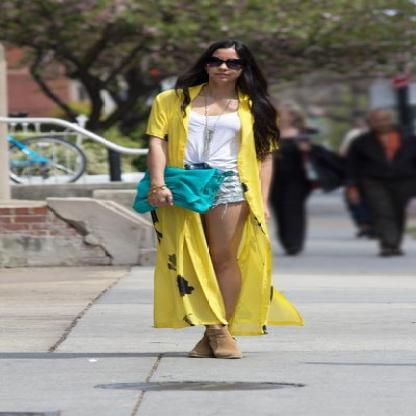bag: (132, 162, 228, 214)
jacket: (146, 84, 302, 340)
shirt: (183, 98, 236, 172)
shoe: (187, 324, 240, 358)
shorts: (218, 175, 244, 201)
sunglass: (197, 43, 237, 68)
